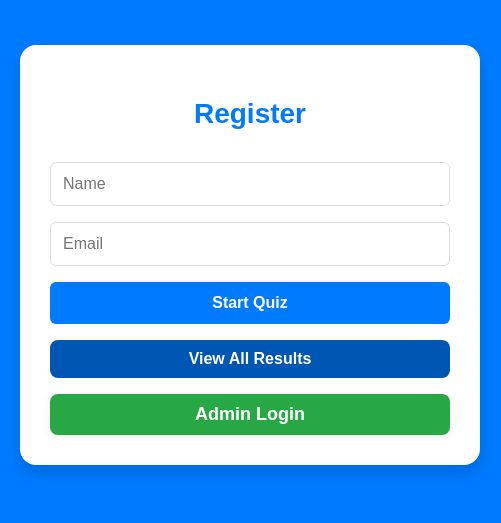
RegistrationForm › shows error on empty submit
This screenshot has width=501, height=523.
What coordinates should you click on to do the following:
click the button "Start Quiz"
I would click on:
 (250, 303)
Its box is 50,282 -> 450,324.
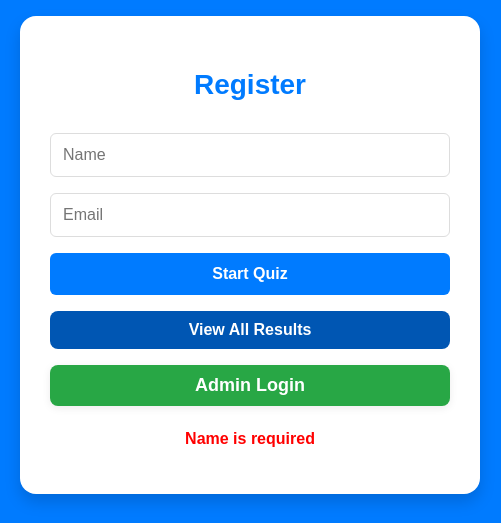
Check: the text "Name is required" is shown, box 185,430 -> 315,447
